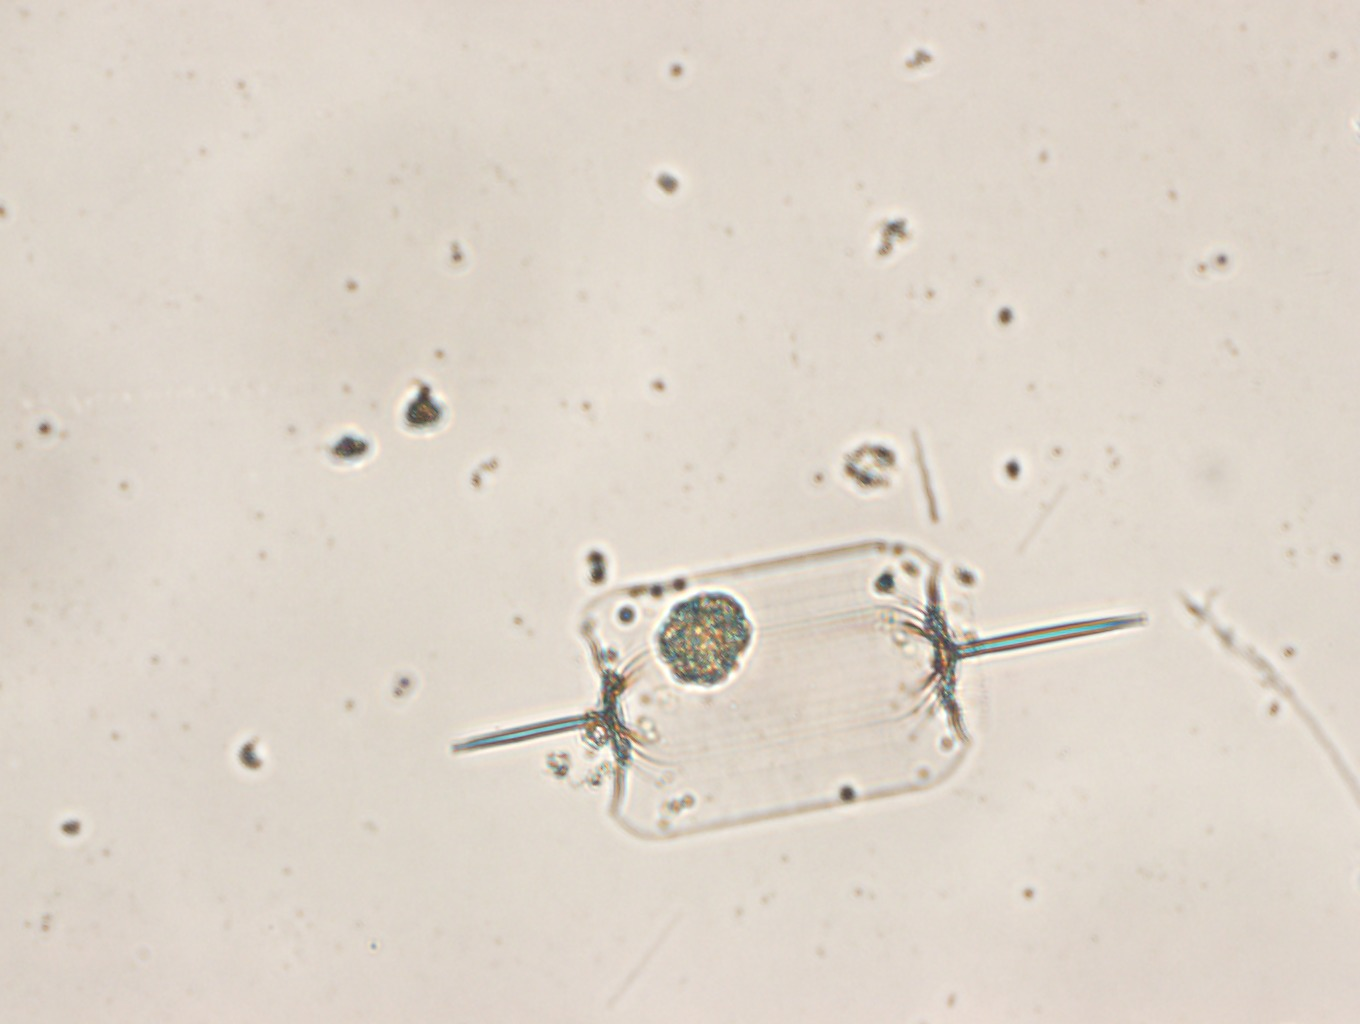ditylum: (453, 542, 1150, 842)
